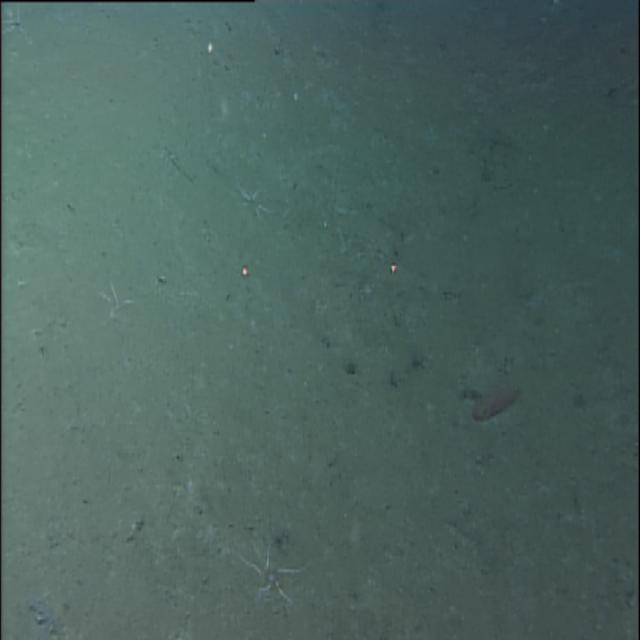Brittle Star: (230, 539, 310, 611), (235, 179, 278, 231)
Not Brittle Star: (469, 375, 527, 427)
